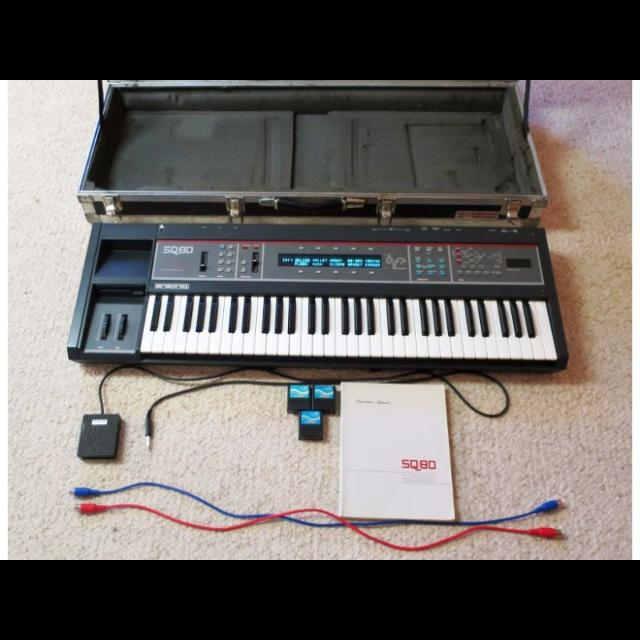Electronic-Keyboard: (62, 216, 570, 376)
